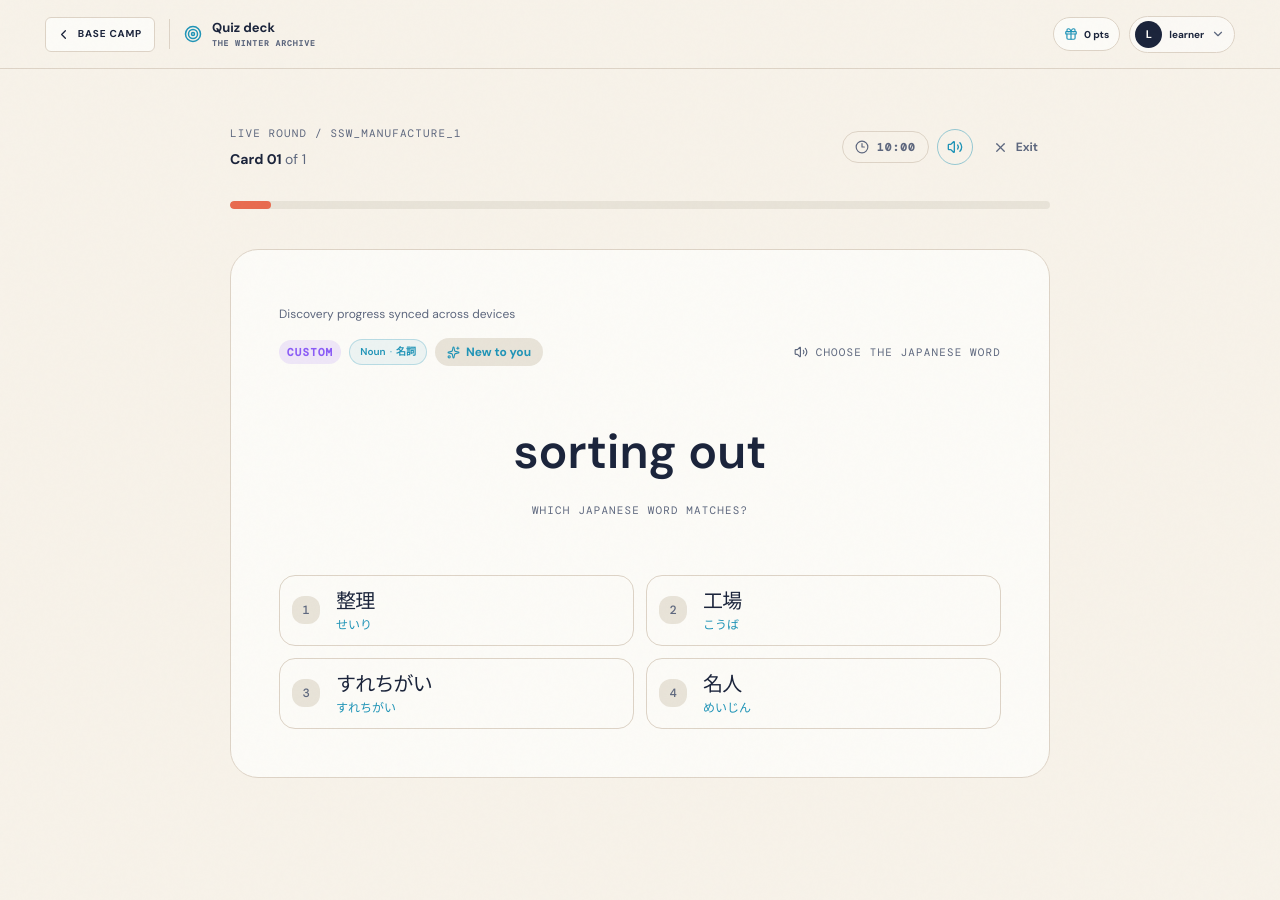
Scenario: example sentence box on SSW quiz cards › in "Choose Japanese" the example stays hidden until the card is answered (it would reveal the word)
Expected: the element with test id "quiz-card" is shown, left=230, top=249, right=1050, bottom=778
Click the button with test id "quiz-answer-1": (355,600) left=279, top=575, right=634, bottom=646
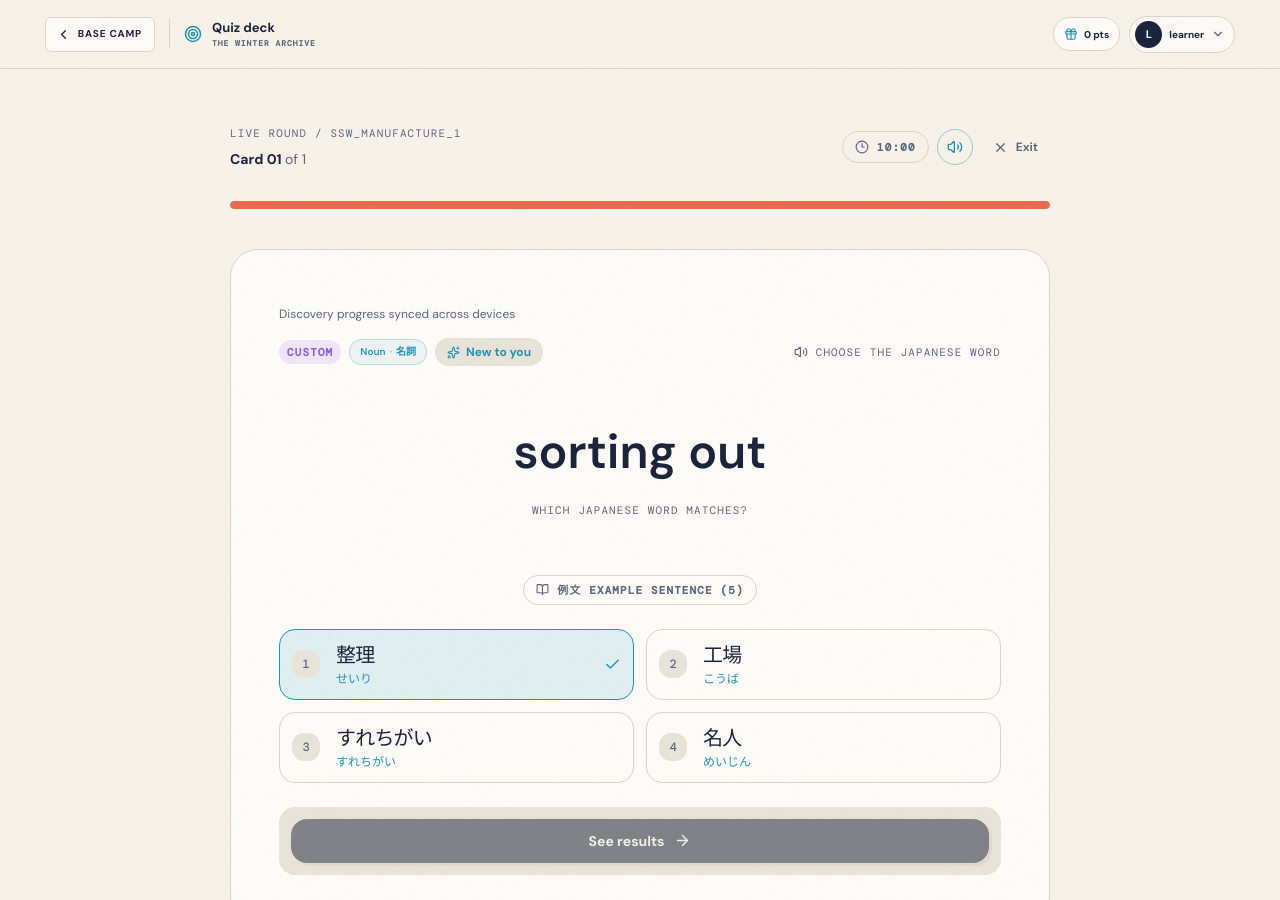
Expected: the button with test id "example-sentence-toggle" is shown, left=523, top=575, right=757, bottom=605
